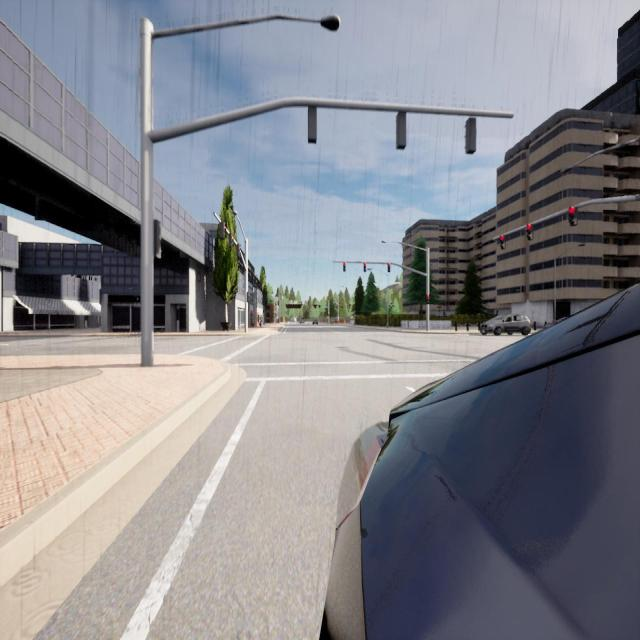Vehicle: (326, 289, 640, 640), (480, 314, 530, 335), (312, 320, 318, 325), (300, 319, 304, 325)
traffic_light: (466, 119, 476, 152), (397, 112, 406, 146), (154, 222, 162, 258), (308, 106, 316, 141), (569, 206, 576, 226), (527, 224, 533, 240), (500, 235, 505, 249), (220, 222, 224, 238), (229, 234, 232, 245), (237, 245, 240, 256), (426, 295, 429, 304), (248, 292, 250, 302), (344, 262, 346, 272), (364, 263, 366, 272), (388, 263, 390, 272)
